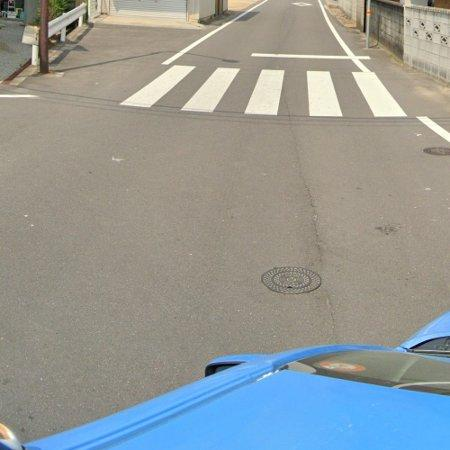crosswalks: (119, 63, 411, 120)
